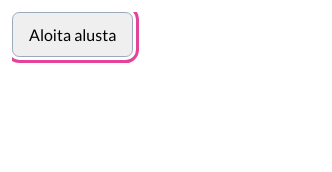
Test: requires a second click, retains focus and announces confirmation
The width and height of the screenshot is (332, 172).
Later steps or results of the test are not shown.
Step 1. Click the button → (73, 35), box x1=12 y1=12 x2=133 y2=57
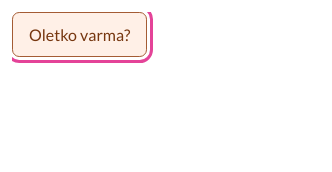
Expected: the button reads "Oletko varma?", x1=12 y1=12 x2=148 y2=57
